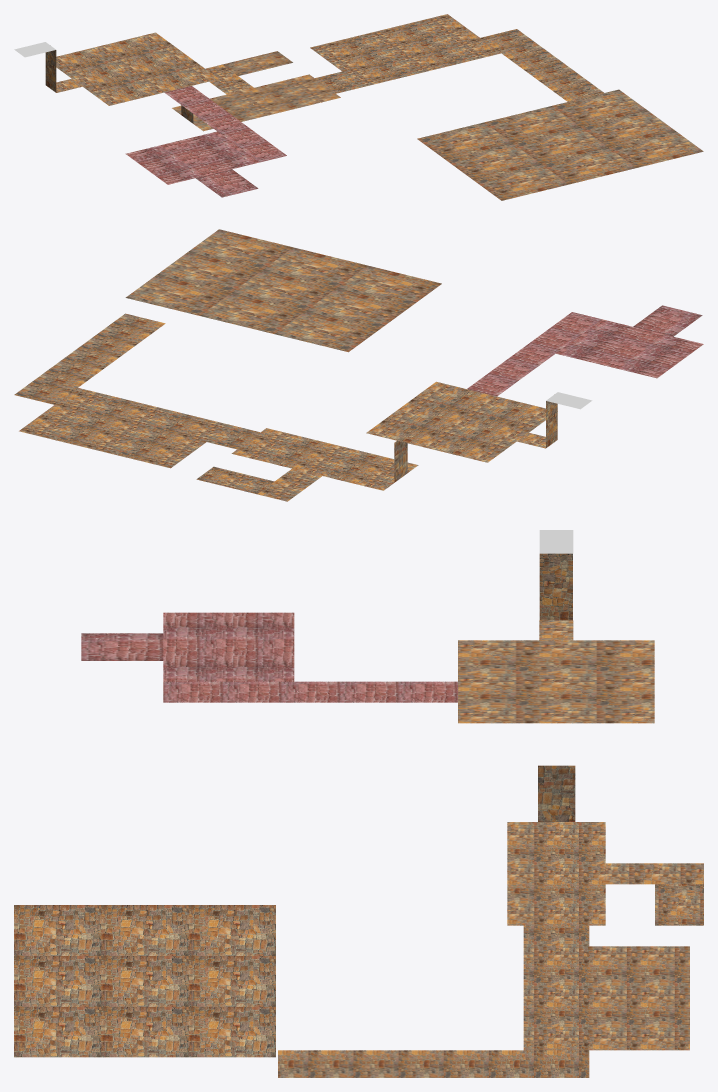
File: SM_Roofs.fbx
3 renders of one model, top to bottom at view 1: azimuth 30°, elevation 25°; view 2: azimuth 150°, elevation 25°; view 3: azimuth 270°, elevation 25°, orthographic. The views are drawn at different scales.
Visible parts, largest first — view 1: Roof 16.001, Roof 4.001, Roof 14.001, Roof.001, Roof 13.001, Roof 10.001, Roof 15.001, Roof 3.001, Roof 2.001, Roof 12.001, Roof 11.001, Roof 5.001 (+1 smaller); view 2: Roof 16.001, Roof 4.001, Roof 14.001, Roof 10.001, Roof.001, Roof 15.001, Roof 13.001, Roof 3.001, Roof 2.001, Roof 12.001, Roof 11.001, Roof 17.001 (+2 smaller); view 3: Roof 16.001, Roof 4.001, Roof 14.001, Roof 10.001, Roof.001, Roof 15.001, Roof 13.001, Roof 3.001, Roof 2.001, Roof 5.001, Roof 11.001, Roof 17.001 (+2 smaller).
Part boxes in pixels (left/top/right/bottom): Roof 16.001: left=417, top=89, right=703, bottom=200; Roof 4.001: left=56, top=32, right=218, bottom=105; Roof 14.001: left=310, top=14, right=479, bottom=71; Roof.001: left=125, top=131, right=259, bottom=184; Roof 13.001: left=315, top=38, right=500, bottom=93; Roof 10.001: left=172, top=74, right=340, bottom=131; Roof 15.001: left=480, top=29, right=603, bottom=101; Roof 3.001: left=164, top=86, right=286, bottom=162; Roof 2.001: left=196, top=169, right=258, bottom=197; Roof 12.001: left=222, top=51, right=292, bottom=75; Roof 11.001: left=205, top=64, right=253, bottom=94; Roof 5.001: left=45, top=50, right=56, bottom=92; Roof 16.001: left=125, top=229, right=441, bottom=352; Roof 4.001: left=366, top=381, right=545, bottom=462; Roof 14.001: left=19, top=405, right=206, bottom=468; Roof 10.001: left=231, top=428, right=418, bottom=490; Roof.001: left=556, top=319, right=703, bottom=378; Roof 15.001: left=14, top=313, right=165, bottom=404; Roof 13.001: left=55, top=388, right=259, bottom=449; Roof 3.001: left=467, top=312, right=601, bottom=396; Roof 2.001: left=633, top=305, right=702, bottom=336; Roof 12.001: left=196, top=466, right=274, bottom=494; Roof 11.001: left=257, top=468, right=321, bottom=501; Roof 17.001: left=394, top=441, right=407, bottom=482; Roof 16.001: left=14, top=905, right=275, bottom=1057; Roof 4.001: left=458, top=640, right=654, bottom=723; Roof 14.001: left=589, top=946, right=689, bottom=1050; Roof 10.001: left=507, top=822, right=605, bottom=925; Roof.001: left=163, top=612, right=294, bottom=681; Roof 15.001: left=278, top=1050, right=589, bottom=1077; Roof 13.001: left=523, top=925, right=589, bottom=1050; Roof 3.001: left=163, top=681, right=457, bottom=702; Roof 2.001: left=81, top=633, right=163, bottom=660; Roof 5.001: left=539, top=553, right=572, bottom=620; Roof 11.001: left=605, top=863, right=703, bottom=884; Roof 17.001: left=538, top=765, right=575, bottom=821.
Size of the model in its own units: 1937 by 390 by 1474.
